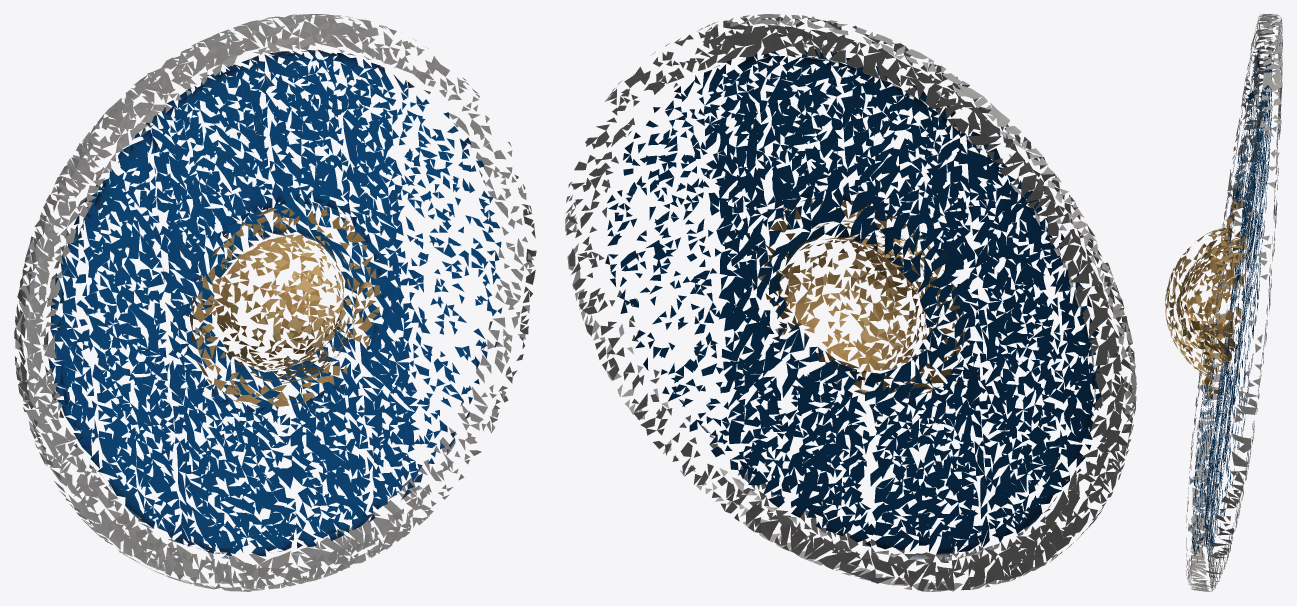
The model's file is w_round_shield.glb.
3 renders of one model, left to right at view 1: azimuth 30°, elevation 25°; view 2: azimuth 150°, elevation 25°; view 3: azimuth 270°, elevation 25°, orthographic. The views are drawn at different scales.
Visible parts, largest first — view 1: shape_clean_textured; view 2: shape_clean_textured; view 3: shape_clean_textured.
Boxes of the visible parts, x1,y1,x2,y2 form: shape_clean_textured: (14, 14, 536, 591); shape_clean_textured: (565, 14, 1136, 591); shape_clean_textured: (1165, 14, 1282, 591).
Size of the model in its own units: 1.99 by 1.99 by 0.4057.
1 material, 1 textured.
